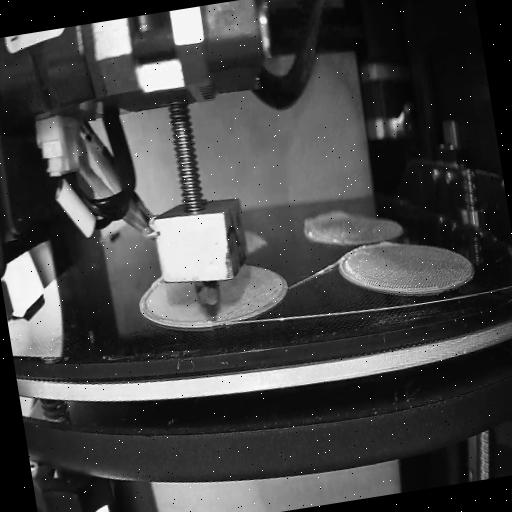over_extrusion: (134, 272, 176, 332), (300, 207, 348, 230), (374, 236, 398, 252)
